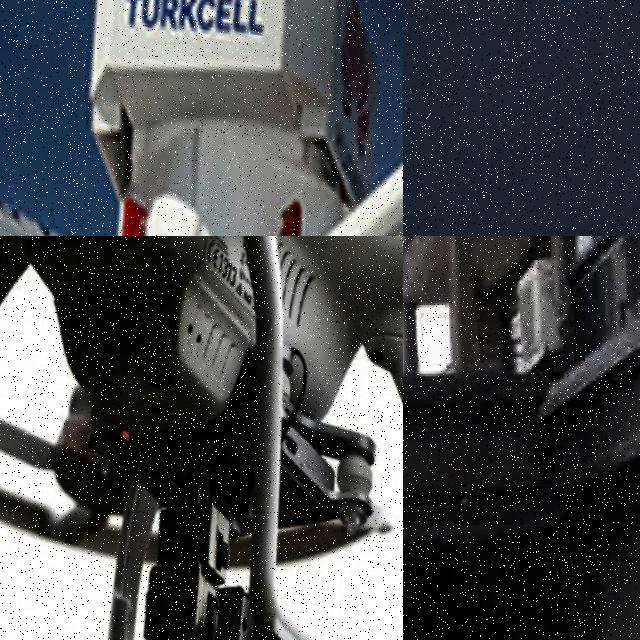drone: (0, 236, 403, 640), (0, 0, 403, 236)
